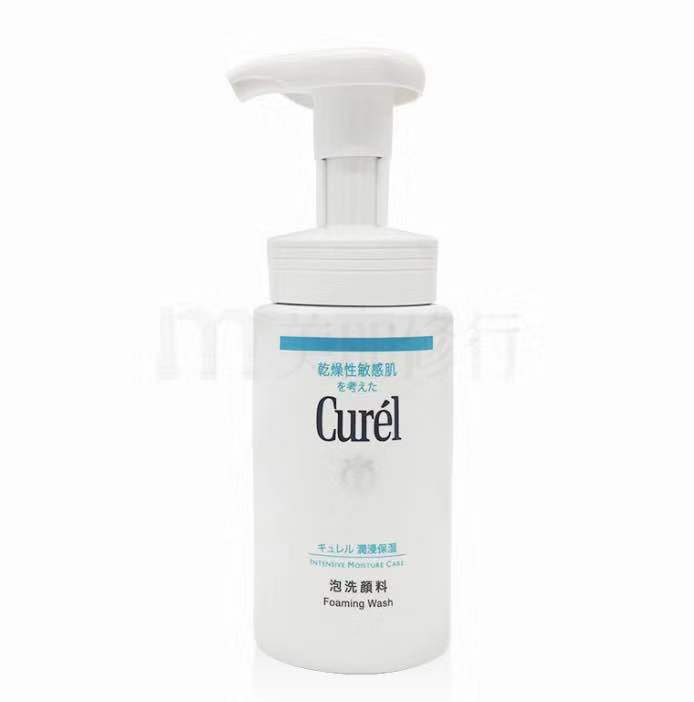cosmetic: (229, 49, 472, 670)
